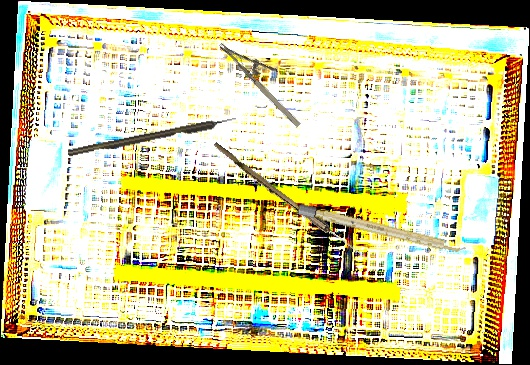Hook Surgical: (67, 115, 238, 158)
Needle Holder: (218, 27, 315, 130)
Scalpel Handle: (297, 203, 467, 256)
Surgical Spoon: (210, 142, 373, 263)
